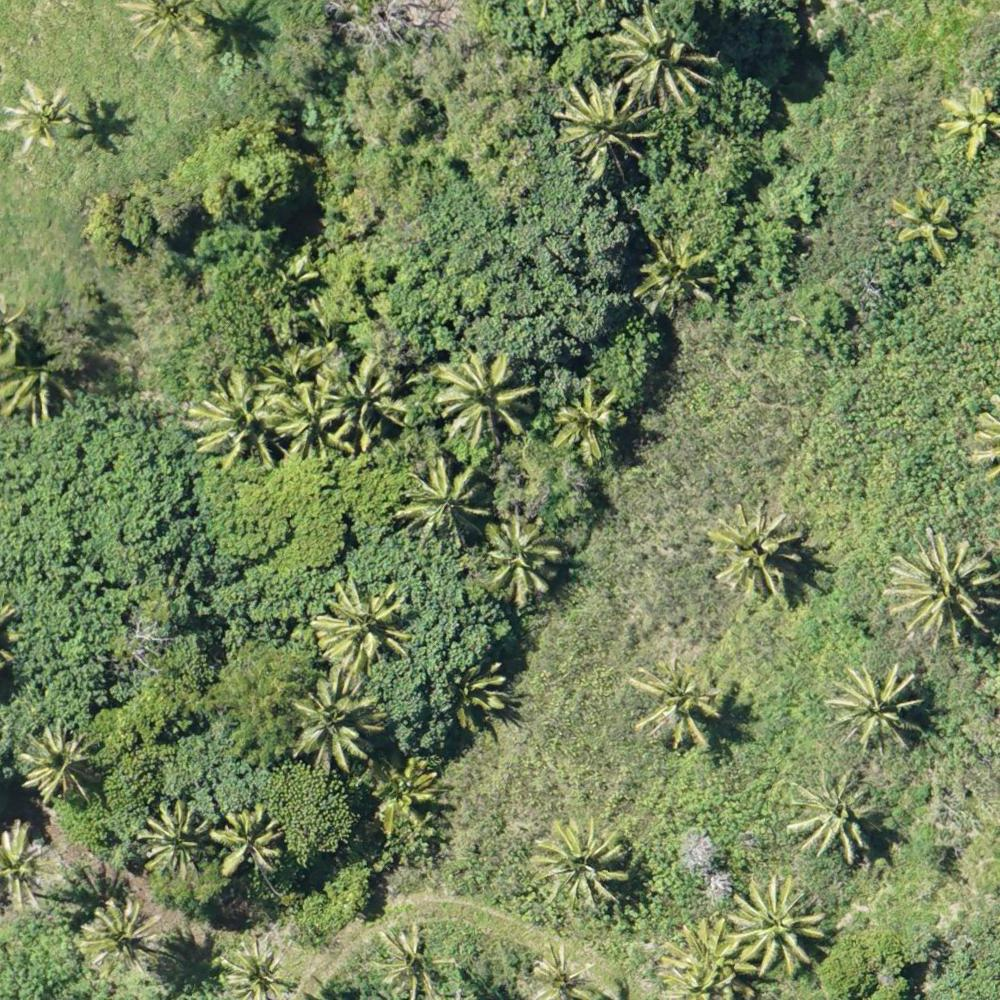Palm: (886, 532, 998, 646), (611, 7, 717, 104), (730, 874, 829, 976), (559, 78, 658, 175), (533, 819, 631, 916), (708, 508, 809, 601), (317, 578, 412, 671), (289, 675, 381, 771), (834, 666, 930, 754), (192, 372, 281, 463), (317, 352, 406, 442), (630, 658, 723, 744), (795, 773, 883, 863), (478, 518, 569, 601), (435, 356, 525, 439), (20, 724, 99, 808), (636, 232, 716, 313), (404, 455, 481, 539), (551, 377, 629, 459), (376, 924, 460, 1000), (271, 381, 351, 460), (82, 898, 158, 976), (141, 799, 216, 876), (891, 189, 967, 262), (215, 938, 298, 1000), (213, 808, 282, 877), (529, 934, 597, 1000), (936, 91, 1000, 158), (6, 84, 72, 147)
